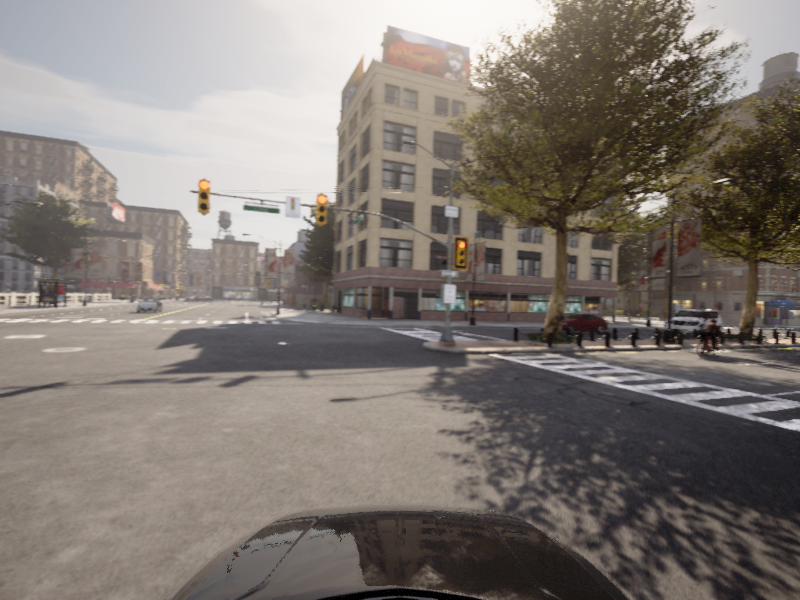vehicle: (661, 307, 726, 338), (689, 318, 731, 358), (543, 312, 612, 334), (134, 296, 164, 313)
